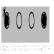correct: (41, 10, 47, 31)
not correct: (2, 5, 10, 31)
